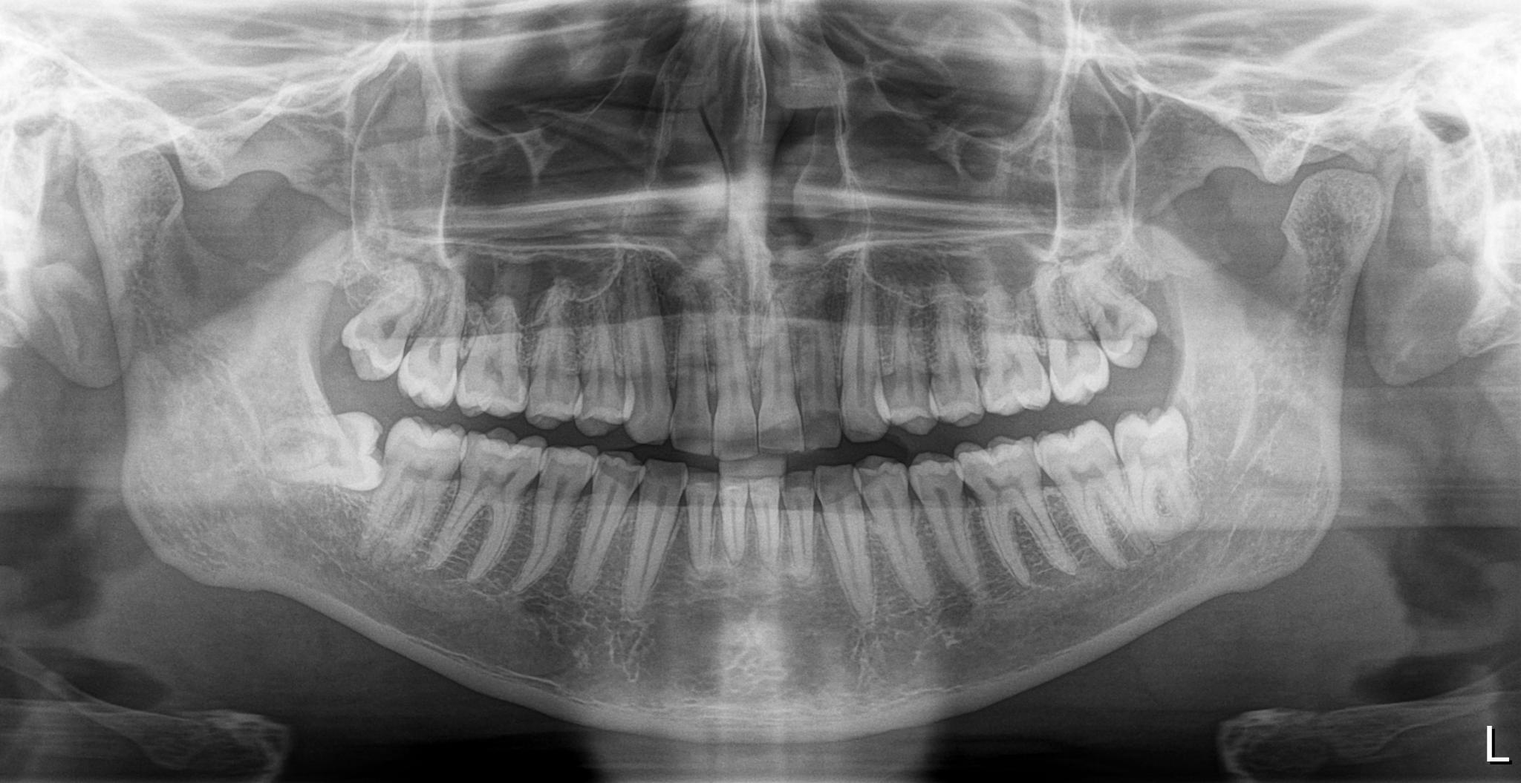Impacted Third Molar: (256, 410, 385, 498)
